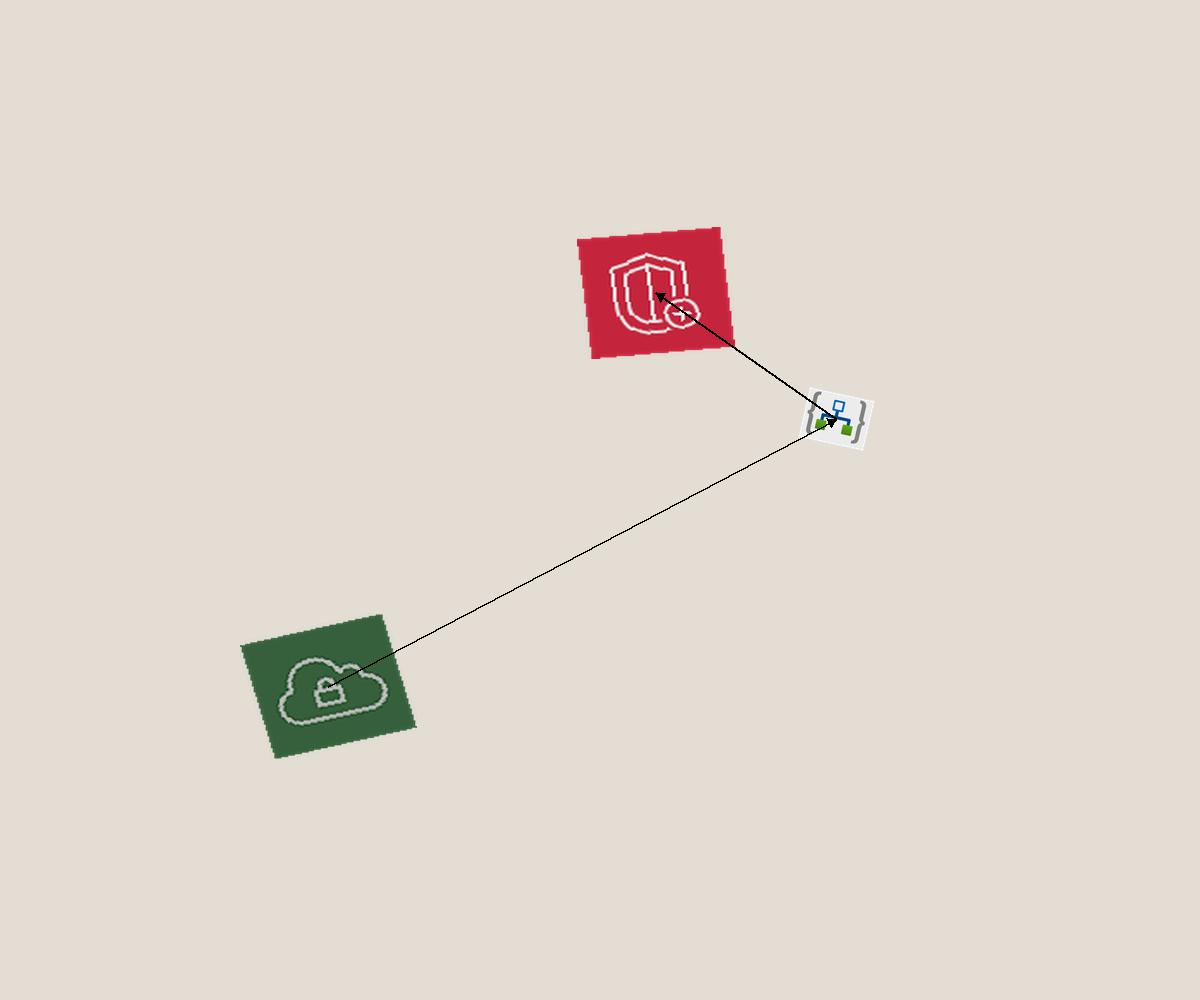AWS-Private_vpc: (240, 613, 417, 760)
AWS-Shield: (577, 227, 735, 359)
Azure_integration-204-Logic-Apps: (798, 387, 875, 451)
